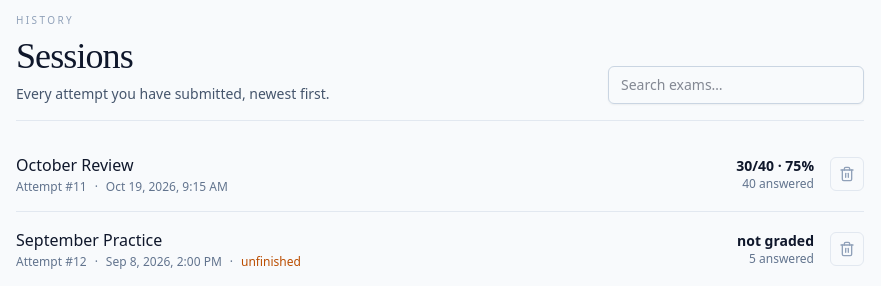
SessionsPage › shows a message when nothing matches the search
Expected: the link "October Review" is shown, [16,154,134,176]
Type "zzz" into the search field named "Search sessions".
click(736, 85); type("zzz")  # box [608,66,864,104]
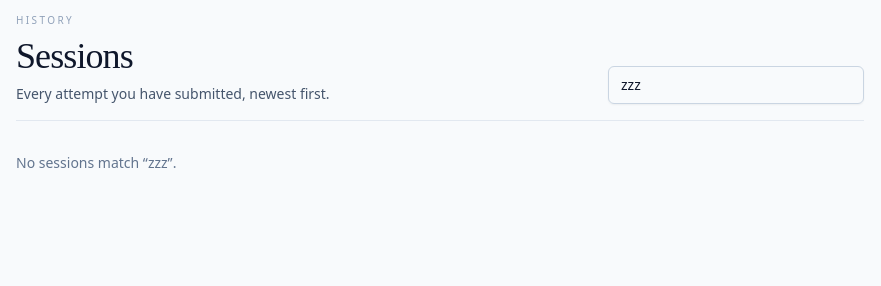
Expected: the text "No sessions match “zzz”." is shown, [16,153,176,172]
